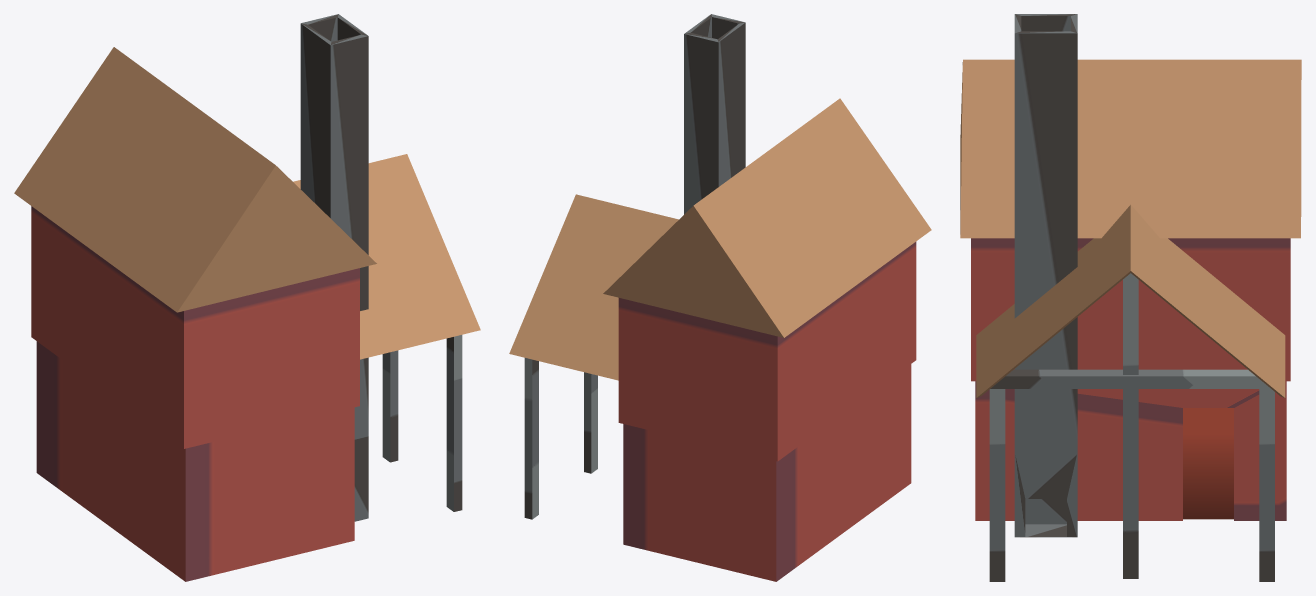
File: Casa4.fbx
The picture shows the model from 3 angles, left to right: view 1: azimuth 30°, elevation 25°; view 2: azimuth 150°, elevation 25°; view 3: azimuth 270°, elevation 25°; orthographic projection. The views are drawn at different scales.
Visible parts, largest first — view 1: CasasMediavais.004; view 2: CasasMediavais.004; view 3: CasasMediavais.004.
Boxes of the visible parts, x1=… form: CasasMediavais.004: x1=14, y1=14, x2=480, y2=581; CasasMediavais.004: x1=509, y1=14, x2=931, y2=581; CasasMediavais.004: x1=960, y1=14, x2=1301, y2=581.
Bounding box in the file's own units: 2675 × 3981 × 2427.
